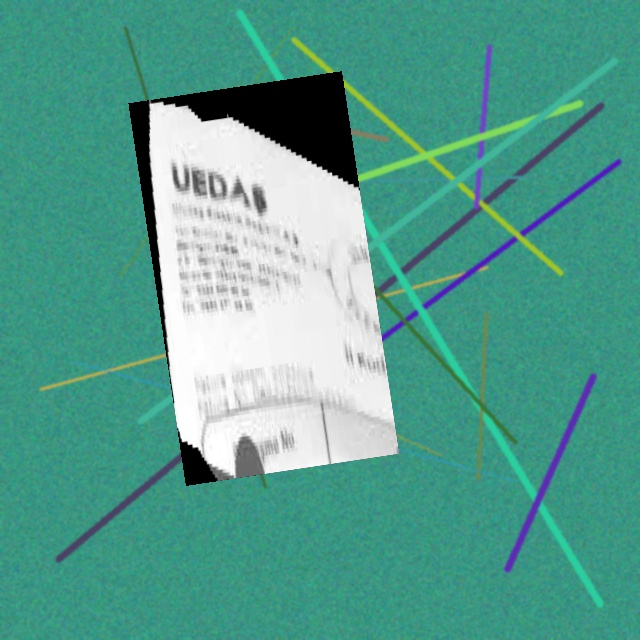electricity-bill: (128, 70, 399, 486)
